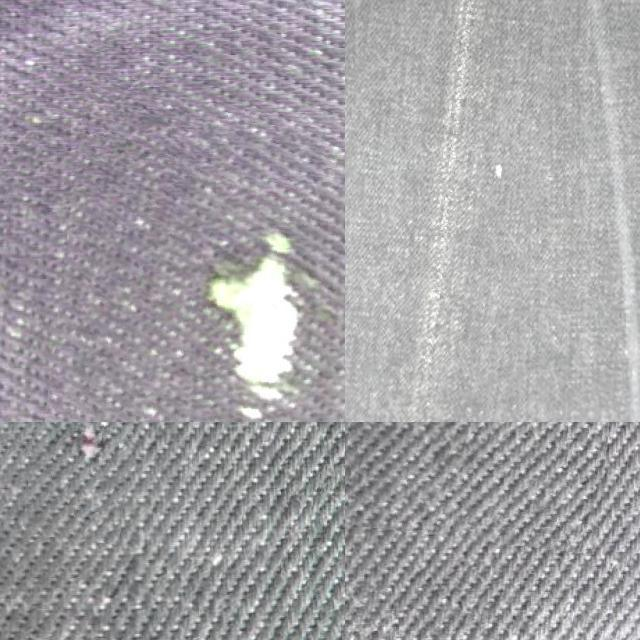Thread_other: (50, 95, 345, 422), (345, 0, 558, 422), (345, 422, 618, 547), (27, 422, 138, 542)
